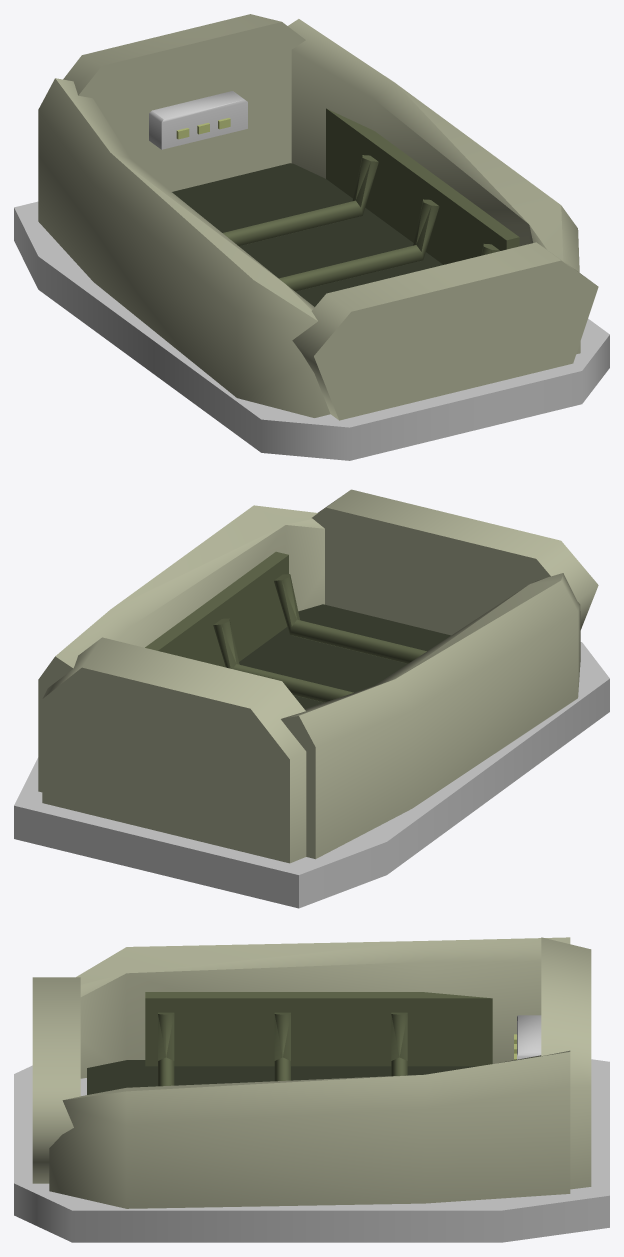
File: mech_capsule_open.obj
The picture shows the model from 3 angles, top to bottom: view 1: azimuth 30°, elevation 25°; view 2: azimuth 150°, elevation 25°; view 3: azimuth 270°, elevation 25°; orthographic projection. The views are drawn at different scales.
Visible parts, largest first — view 1: source_component_002, source_component_007, source_component_000, source_component_006, source_component_004, source_component_001, source_component_005, source_component_011, source_component_009, source_component_010; view 2: source_component_006, source_component_002, source_component_000, source_component_007, source_component_004, source_component_001, source_component_005, source_component_008, source_component_009; view 3: source_component_004, source_component_002, source_component_000, source_component_003, source_component_006, source_component_007, source_component_001, source_component_008, source_component_009, source_component_010, source_component_011.
Boxes of the visible parts, x1,y1,x2,y2 form: source_component_002: (38, 78, 330, 417); source_component_007: (292, 242, 598, 420); source_component_000: (14, 201, 609, 460); source_component_006: (63, 14, 305, 191); source_component_004: (288, 19, 580, 354); source_component_001: (172, 163, 442, 306); source_component_005: (326, 108, 519, 264); source_component_011: (149, 91, 247, 149); source_component_009: (279, 199, 439, 291); source_component_010: (223, 155, 378, 245); source_component_006: (42, 637, 306, 863); source_component_002: (281, 573, 580, 859); source_component_000: (14, 642, 609, 908); source_component_007: (312, 489, 598, 635); source_component_004: (38, 505, 324, 792); source_component_001: (239, 604, 450, 709); source_component_005: (145, 551, 288, 667); source_component_008: (274, 574, 426, 663); source_component_009: (213, 618, 353, 702); source_component_004: (49, 1050, 570, 1208); source_component_002: (76, 937, 570, 1078); source_component_000: (14, 1059, 609, 1242); source_component_003: (145, 992, 492, 1066); source_component_006: (541, 937, 591, 1189); source_component_007: (32, 977, 80, 1183); source_component_001: (87, 1060, 476, 1094); source_component_008: (158, 1012, 174, 1086); source_component_009: (274, 1012, 290, 1081); source_component_010: (391, 1012, 407, 1076); source_component_011: (517, 1015, 541, 1059).
Bounding box in the file's own units: 1.86 × 0.96 × 2.86.
